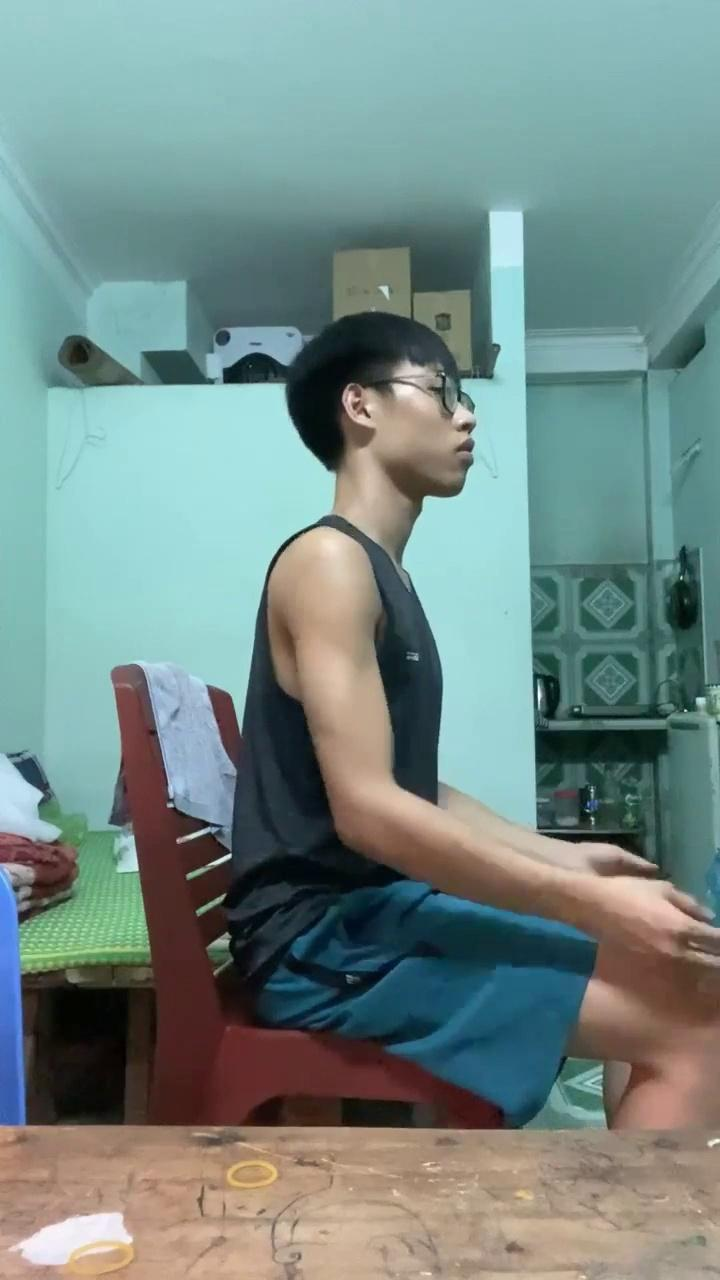GoodPosture: (263, 525, 719, 1080), (288, 322, 473, 589)
